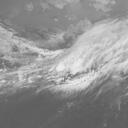cyclone: (33, 34, 99, 91)
